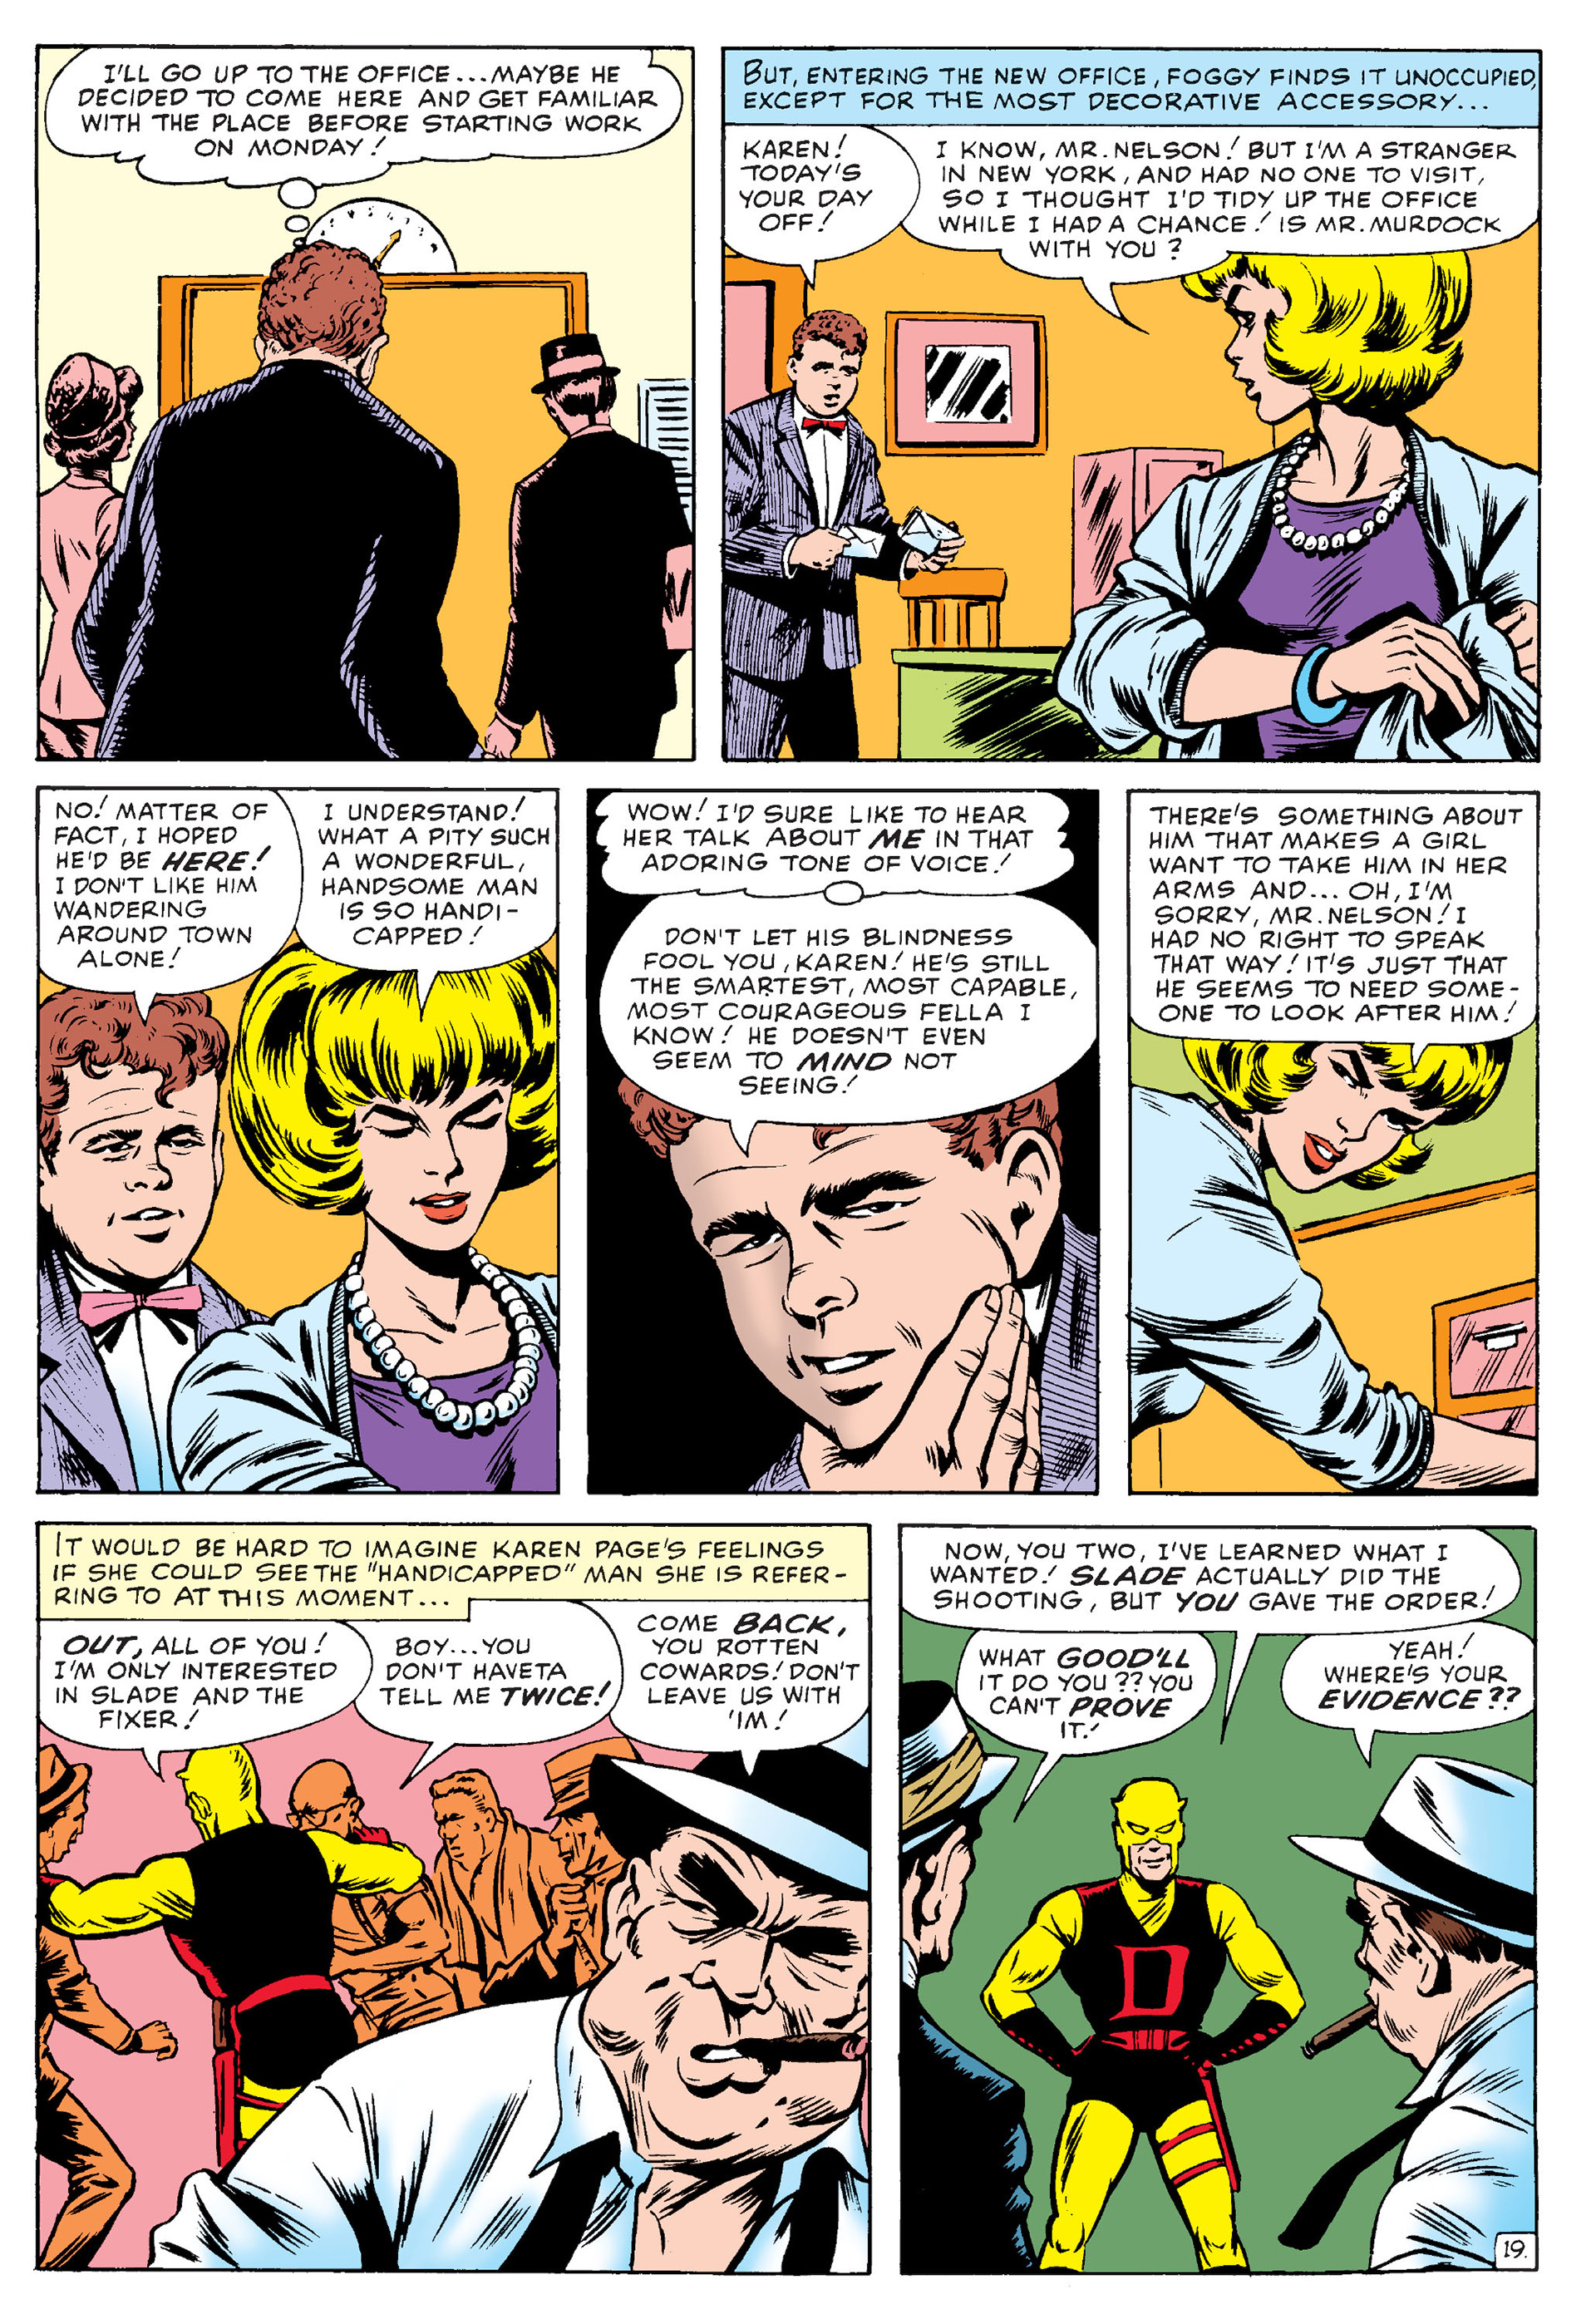Baloon: (600, 894, 1098, 1121), (907, 124, 1536, 300), (1125, 786, 1543, 1045), (44, 44, 683, 212), (41, 1522, 876, 1619), (897, 1526, 1522, 1635), (724, 44, 1540, 124), (34, 782, 300, 1007), (293, 786, 549, 984), (600, 793, 1080, 897), (611, 1605, 876, 1771), (44, 1616, 369, 1750), (962, 1630, 1218, 1784), (351, 1602, 621, 1747), (1287, 1628, 1540, 1764), (727, 120, 918, 279)
Vignetta: (41, 1522, 870, 2282), (727, 41, 1536, 765), (28, 48, 699, 756), (900, 1522, 1532, 2267), (37, 782, 568, 1494), (593, 793, 1110, 1498), (1128, 789, 1543, 1490)
